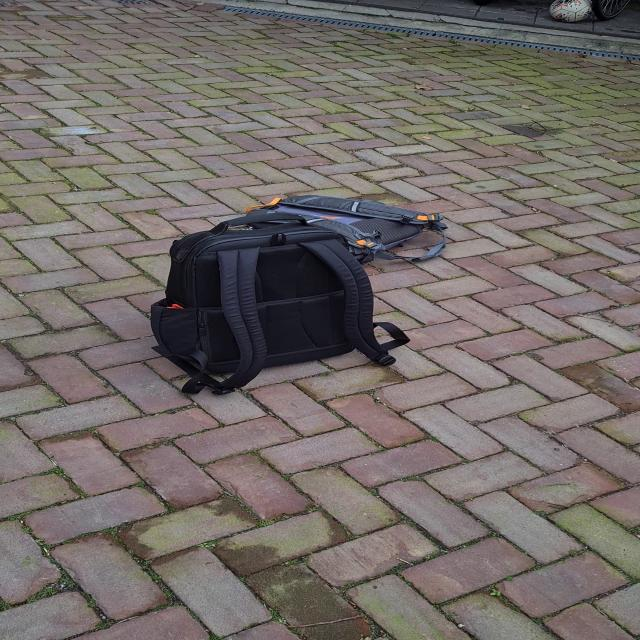backpack: (143, 193, 404, 399), (247, 189, 455, 267)
